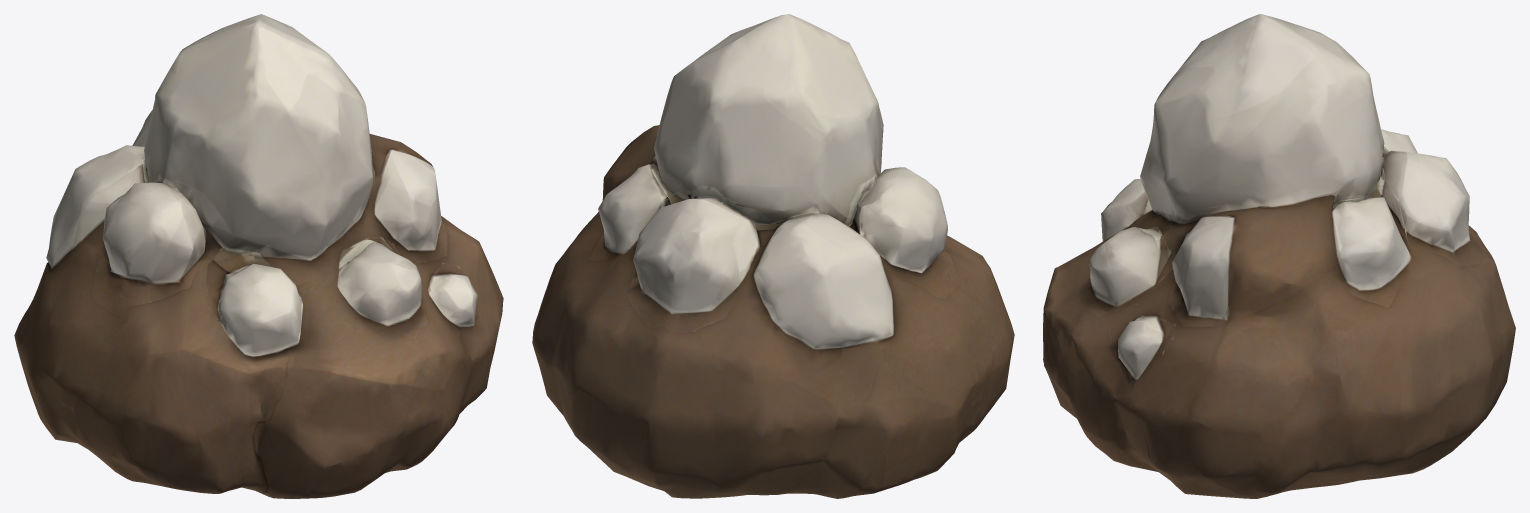
The model's file is silver_ore.glb.
3 renders of one model, left to right at view 1: azimuth 30°, elevation 25°; view 2: azimuth 150°, elevation 25°; view 3: azimuth 270°, elevation 25°, orthographic.
Bounding box in the file's own units: 1.99 × 1.99 × 1.99.
1 material, 1 textured.
